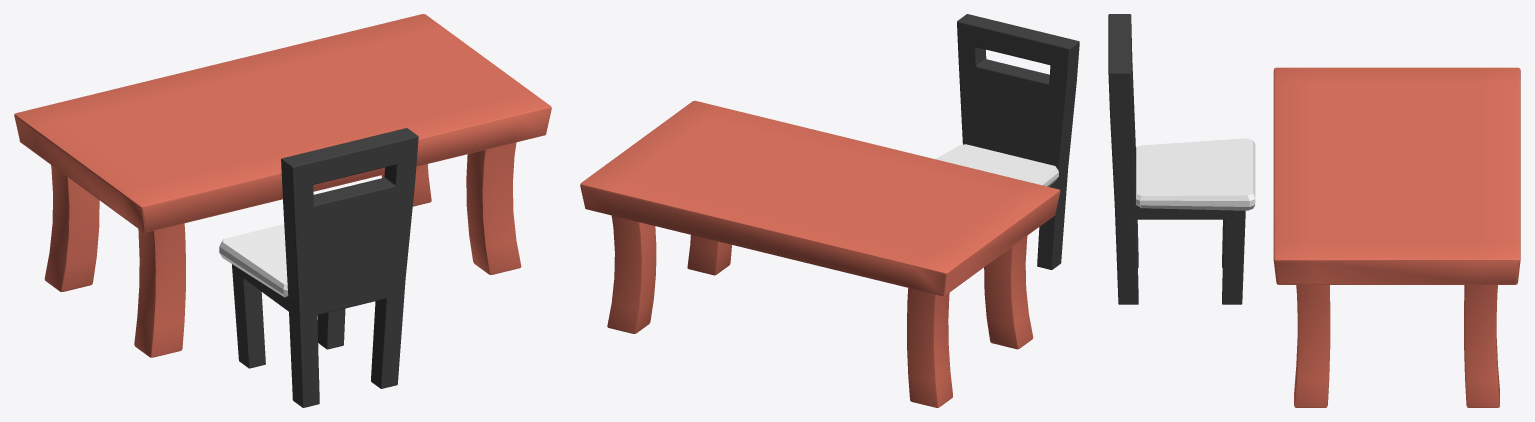
The model's file is Kitchen_Table.fbx.
The picture shows the model from 3 angles, left to right: view 1: azimuth 30°, elevation 25°; view 2: azimuth 150°, elevation 25°; view 3: azimuth 270°, elevation 25°; orthographic projection. The views are drawn at different scales.
Parts seen in each view (by area): view 1: Kitchen_Table_1, Kitchen_Chair; view 2: Kitchen_Table_1, Kitchen_Chair; view 3: Kitchen_Table_1, Kitchen_Chair.
Boxes of the visible parts, bbox=[...] form: Kitchen_Table_1: bbox=[14, 14, 551, 357]; Kitchen_Chair: bbox=[219, 128, 418, 407]; Kitchen_Table_1: bbox=[580, 100, 1060, 407]; Kitchen_Chair: bbox=[935, 14, 1079, 269]; Kitchen_Table_1: bbox=[1273, 67, 1520, 407]; Kitchen_Chair: bbox=[1108, 14, 1255, 304].
Size of the model in its own units: 179 by 105 by 162.
